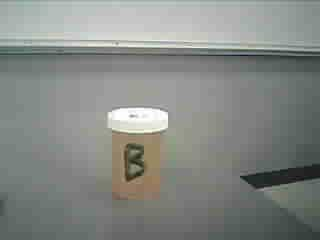Bottle B: (101, 102, 174, 209)
